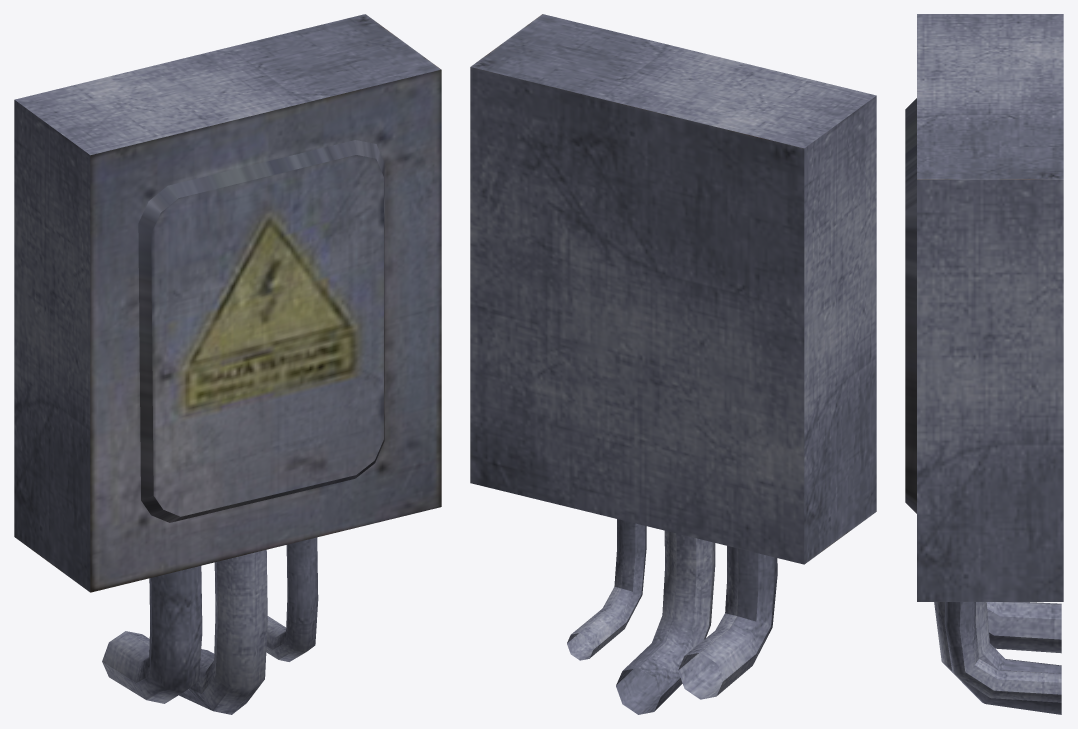
The model's file is Registro_de_Pared.fbx.
3 renders of one model, left to right at view 1: azimuth 30°, elevation 25°; view 2: azimuth 150°, elevation 25°; view 3: azimuth 270°, elevation 25°, orthographic. The views are drawn at different scales.
Parts seen in each view (by area): view 1: Registro_pared; view 2: Registro_pared; view 3: Registro_pared.
Boxes of the visible parts, box(x1,y1,x2,y2) form: Registro_pared: box(14, 14, 441, 714); Registro_pared: box(470, 14, 876, 714); Registro_pared: box(905, 14, 1063, 714).
Size of the model in its own units: 50.54 by 87.89 by 20.45.
Materials: 1 (1 with a texture image).
